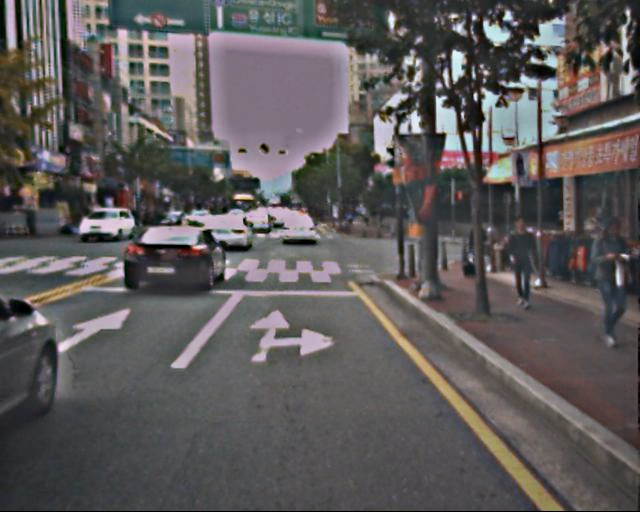person: (575, 218, 639, 348), (503, 216, 541, 308), (465, 220, 494, 281)
